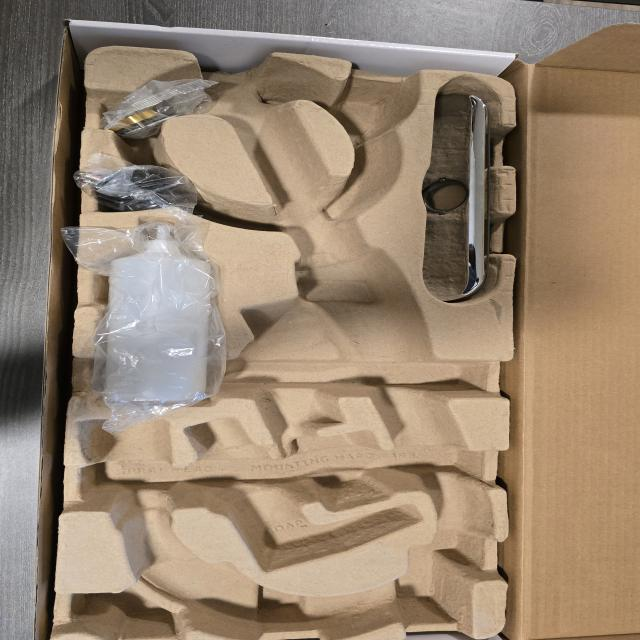1m: (77, 57, 488, 636)
2m: (185, 417, 422, 570)
3: (98, 223, 216, 404)
4: (422, 95, 491, 301)
5m: (334, 88, 408, 137)
6: (99, 80, 222, 143)
7: (78, 151, 198, 213)
